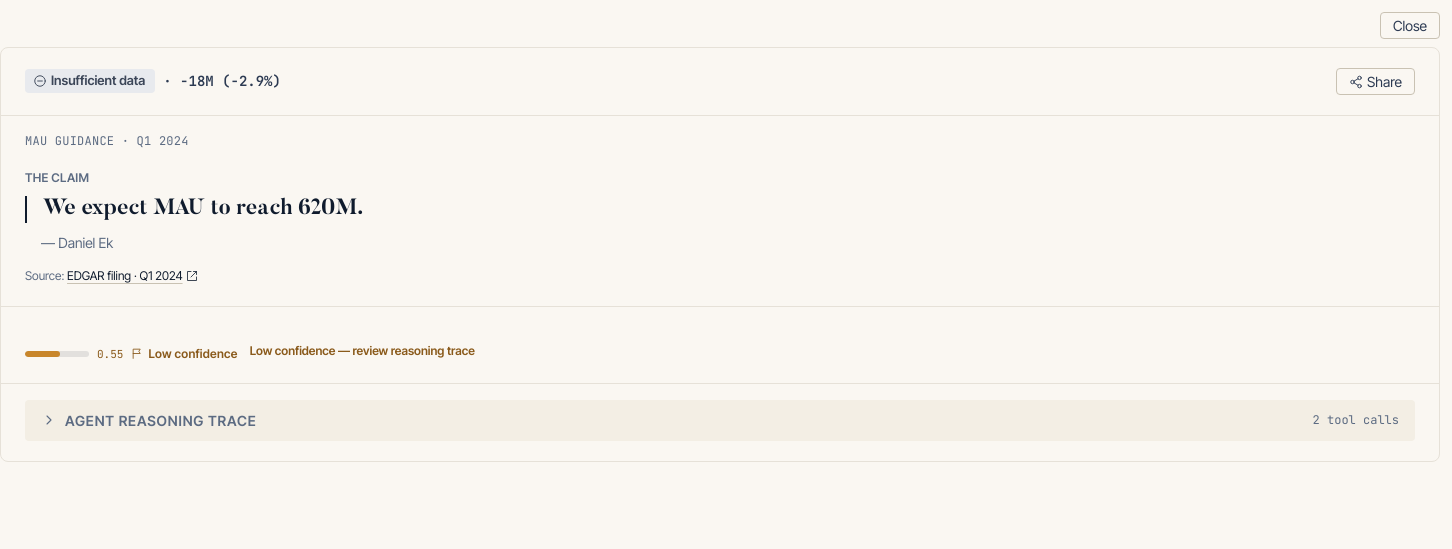
Test: ClaimDetailComponent › expands the embedded trace with inline citations + the failure step end-to-end (6.6, AC1/AC2/AC4)
The image size is (1452, 549).
What coordinates should you click on to do the following:
click the button with class "trace__toggle"
I would click on:
 (161, 420)
Its box is x1=25 y1=400 x2=1415 y2=441.
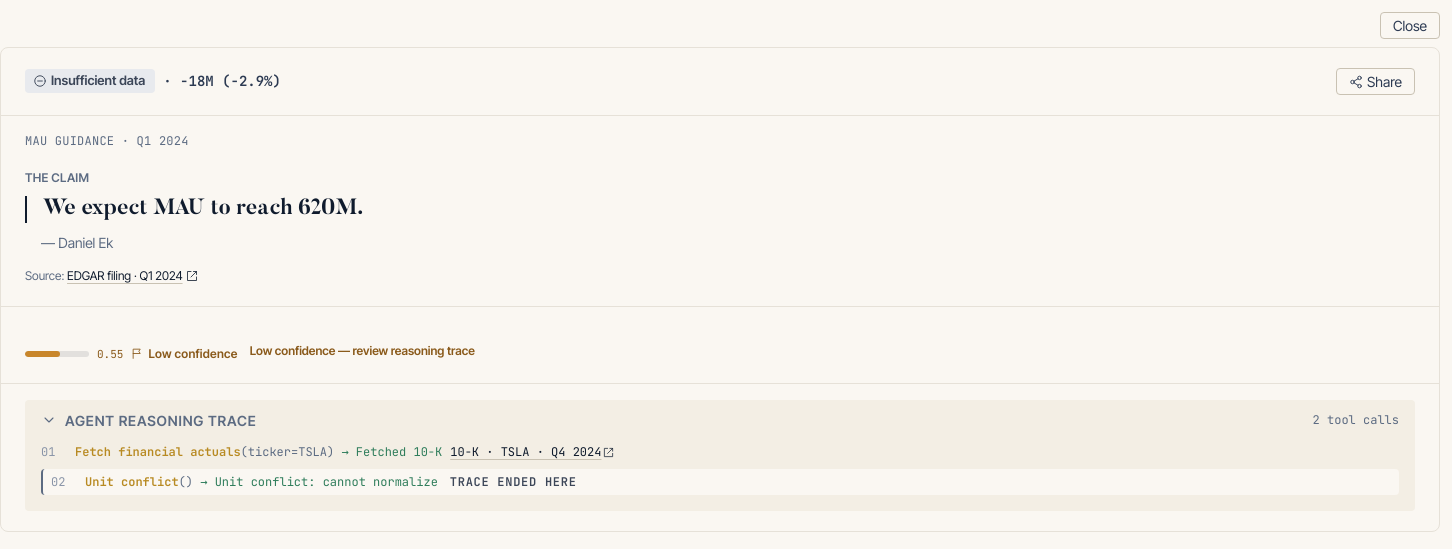
Result: the link with class "trace__cite" reads "10-K · TSLA · Q4 2024" at x1=450 y1=445 x2=614 y2=460
Result: the number of list items with class "trace__step" is 2 at x1=41 y1=444 x2=614 y2=460; x1=41 y1=469 x2=1399 y2=495
Result: the list item with class "trace__step" shows "Unit conflict" at x1=85 y1=474 x2=179 y2=490
